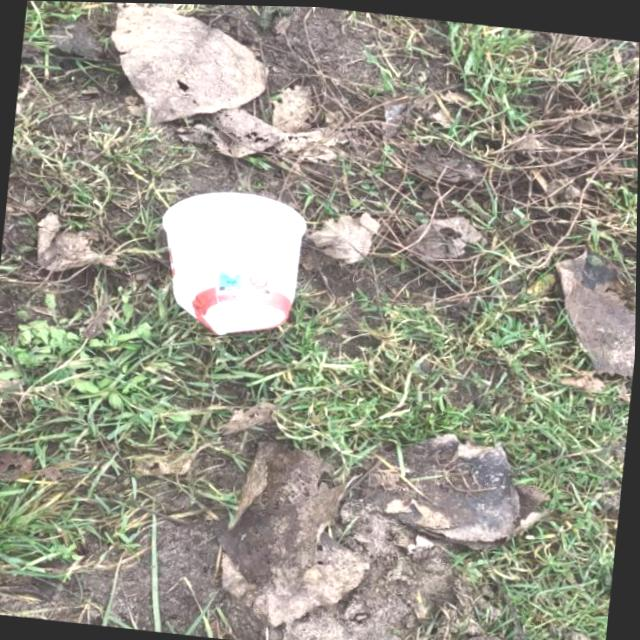Cup: (149, 181, 313, 342)
